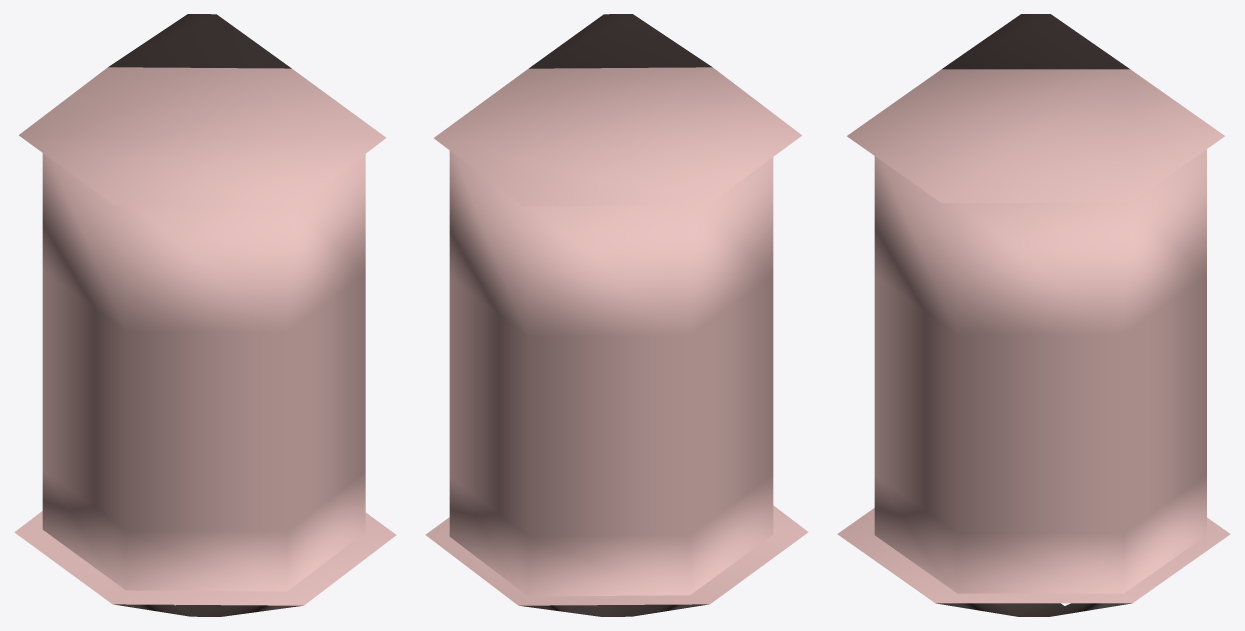
Rendered from lamba.fbx.
3 renders of one model, left to right at view 1: azimuth 30°, elevation 25°; view 2: azimuth 150°, elevation 25°; view 3: azimuth 270°, elevation 25°, orthographic.
Visible parts, largest first — view 1: Cylinder; view 2: Cylinder; view 3: Cylinder.
Boxes of the visible parts, <box> form: Cylinder: <box>14,14,396,616</box>; Cylinder: <box>425,14,808,616</box>; Cylinder: <box>837,14,1230,616</box>.
Size of the model in its own units: 87.15 by 170 by 105.
